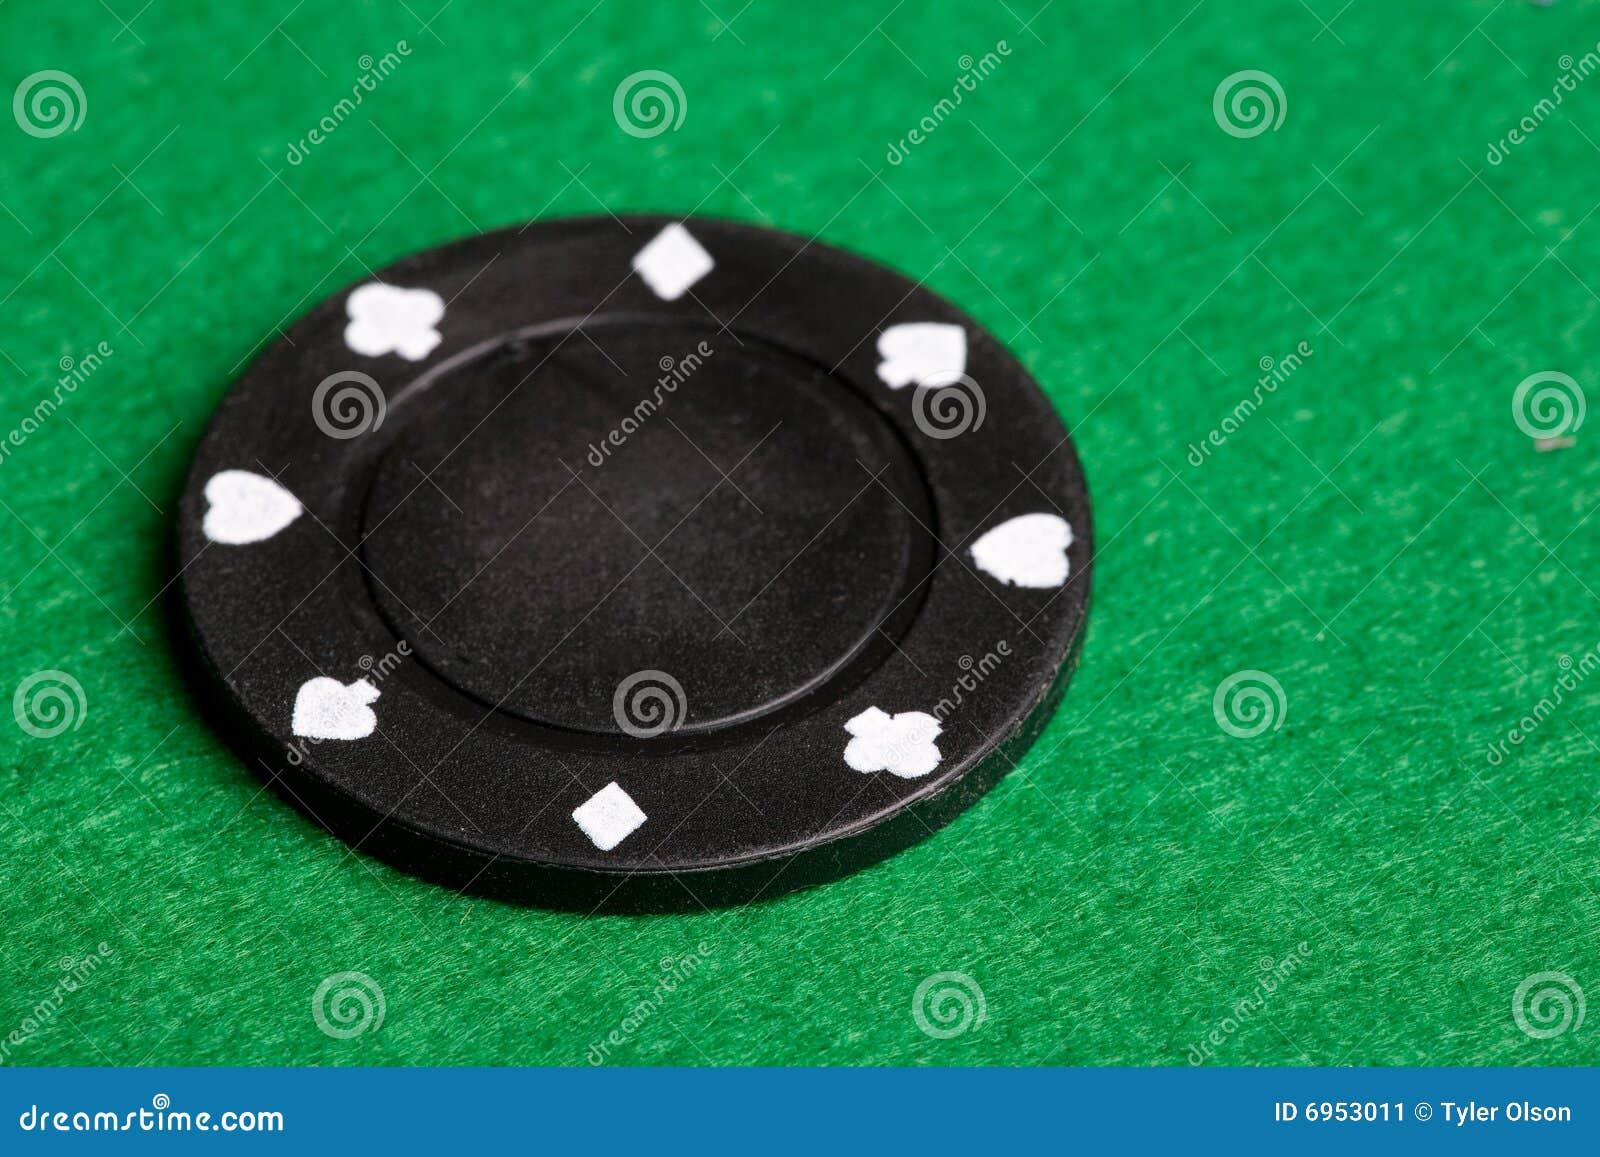chip-black: (178, 216, 1093, 907)
